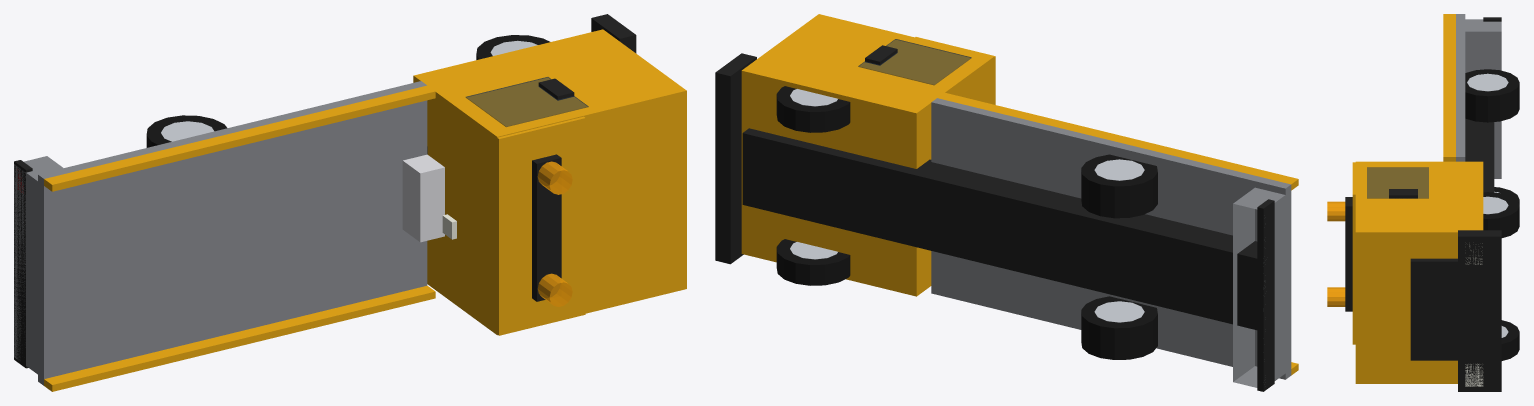
The model's file is Grua_Asistencia.obj.
3 renders of one model, left to right at view 1: azimuth 30°, elevation 25°; view 2: azimuth 150°, elevation 25°; view 3: azimuth 270°, elevation 25°, orthographic. The views are drawn at different scales.
Parts seen in each view (by area): view 1: Recovery_Platform, Cab_Body, Cab_Roof, Platform_Rails, Platform_Ramps, Hydraulic_Winch, Beacon_Bar_Mount, Cab_Windows, Rear_Bumper, Wheel_RR_Outer, Wheel_FR, Rotary_Beacon_Right (+2 smaller); view 2: Chassis_Frame, Cab_Body, Recovery_Platform, Cab_Bumper, Platform_Ramps, Wheel_RR_Outer, Rear_Bumper, Wheel_RL_Inner, Platform_Rails, Wheel_FR, Wheel_FL, Cab_Windows (+2 smaller); view 3: Cab_Body, Cab_Bumper, Cab_Grille, Platform_Ramps, Wheel_RR_Outer, Platform_Rails, Cab_Windows, Chassis_Frame, Recovery_Platform, Wheel_FR, Beacon_Bar_Mount, Cab_Roof (+6 smaller).
Part boxes in pixels (x1,y1,x2,y2): Recovery_Platform: (38,81,427,385); Cab_Body: (413,29,686,335); Cab_Roof: (497,116,585,335); Platform_Rails: (44,85,435,391); Platform_Ramps: (14,156,63,374); Hydraulic_Winch: (402,154,444,242); Beacon_Bar_Mount: (532,154,561,301); Cab_Windows: (465,77,588,126); Rear_Bumper: (14,160,32,368); Wheel_RR_Outer: (146,115,227,147); Wheel_FR: (476,35,549,59); Rotary_Beacon_Right: (537,161,572,194); Chassis_Frame: (742,128,1257,330); Cab_Body: (741,14,993,296); Recovery_Platform: (931,98,1291,379); Cab_Bumper: (715,53,756,264); Platform_Ramps: (1233,187,1285,387); Wheel_RR_Outer: (1081,154,1157,206); Rear_Bumper: (1257,199,1274,391); Wheel_RL_Inner: (1081,296,1157,348); Platform_Rails: (938,92,1298,375); Wheel_FR: (776,86,850,132); Wheel_FL: (776,239,850,285); Cab_Windows: (858,39,971,85); Cab_Body: (1355,161,1483,383); Cab_Bumper: (1458,230,1501,391); Cab_Grille: (1410,258,1457,360); Platform_Ramps: (1465,19,1501,178); Wheel_RR_Outer: (1465,69,1519,113); Platform_Rails: (1443,14,1455,161); Cab_Windows: (1367,167,1428,198); Chassis_Frame: (1465,118,1494,192); Recovery_Platform: (1456,14,1465,161); Wheel_FR: (1483,192,1519,234); Beacon_Bar_Mount: (1345,197,1352,311); Cab_Roof: (1352,162,1355,344).
Size of the model in its own units: 720 by 240 by 265.
